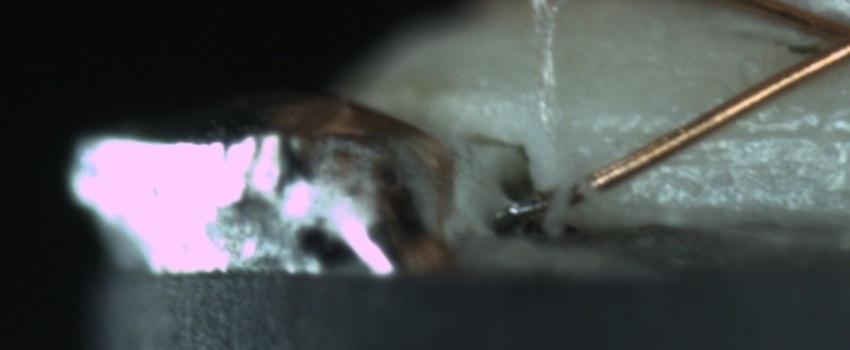CL: (780, 1, 849, 86)
DL: (608, 98, 849, 165)
TS: (493, 185, 546, 224)
